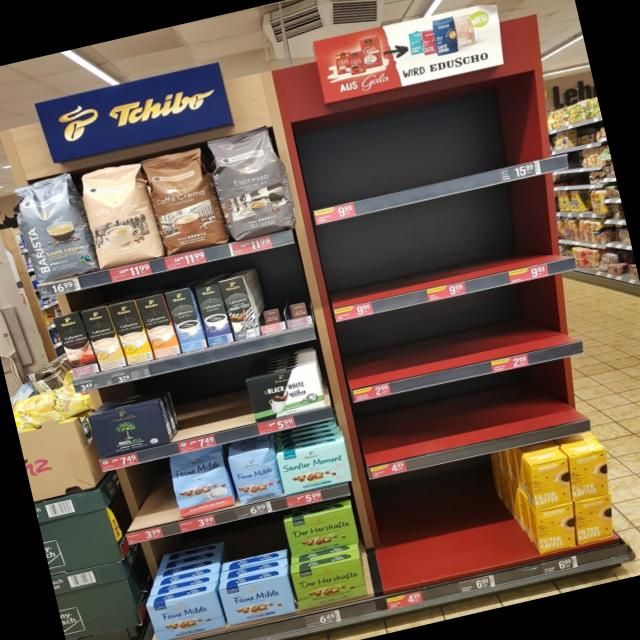BM Gemahlen: (86, 398, 171, 460)
BW Gemahlen: (243, 360, 329, 426)
Barista CC: (5, 168, 100, 288)
CC Mild: (76, 158, 164, 270)
CC Vollmundig 36 Pads: (140, 142, 228, 258)
Empty Shelf: (162, 359, 252, 437), (110, 458, 178, 532)
Espresso M Art: (204, 121, 302, 243)
FM 36 Pads: (166, 446, 236, 519)
FM Bohne: (226, 445, 286, 506)
FM Gemahlen: (215, 570, 298, 628), (143, 586, 225, 640)
Herzhatfe Mundig: (290, 554, 370, 612)
SM Gemahlen: (274, 434, 356, 496)
Simo CC Colombia: (52, 311, 99, 378)
Simo CCMild bigpack: (106, 298, 154, 368)
Simo CCVollmundig bigpack: (136, 293, 179, 361)
Simo Decaff: (80, 306, 126, 374)
Simo Es Elegant: (220, 274, 260, 342)
Simo Es Kraft: (194, 280, 232, 346)
Simo Es Vanilla: (166, 286, 207, 354)
